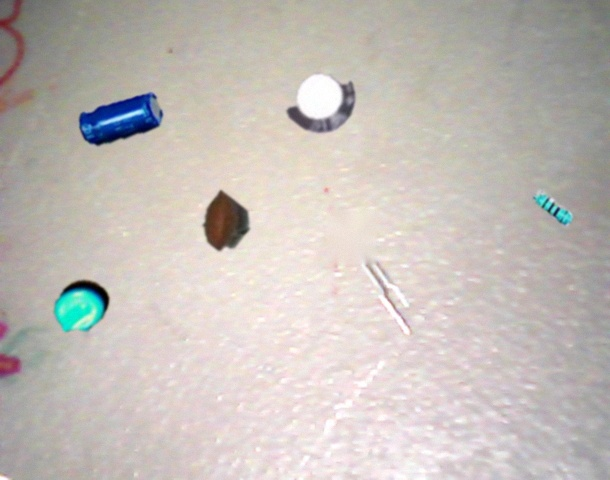capacitor: (78, 92, 163, 146), (286, 73, 356, 134), (54, 280, 110, 332), (203, 190, 250, 251)
resistor: (532, 189, 575, 227)
